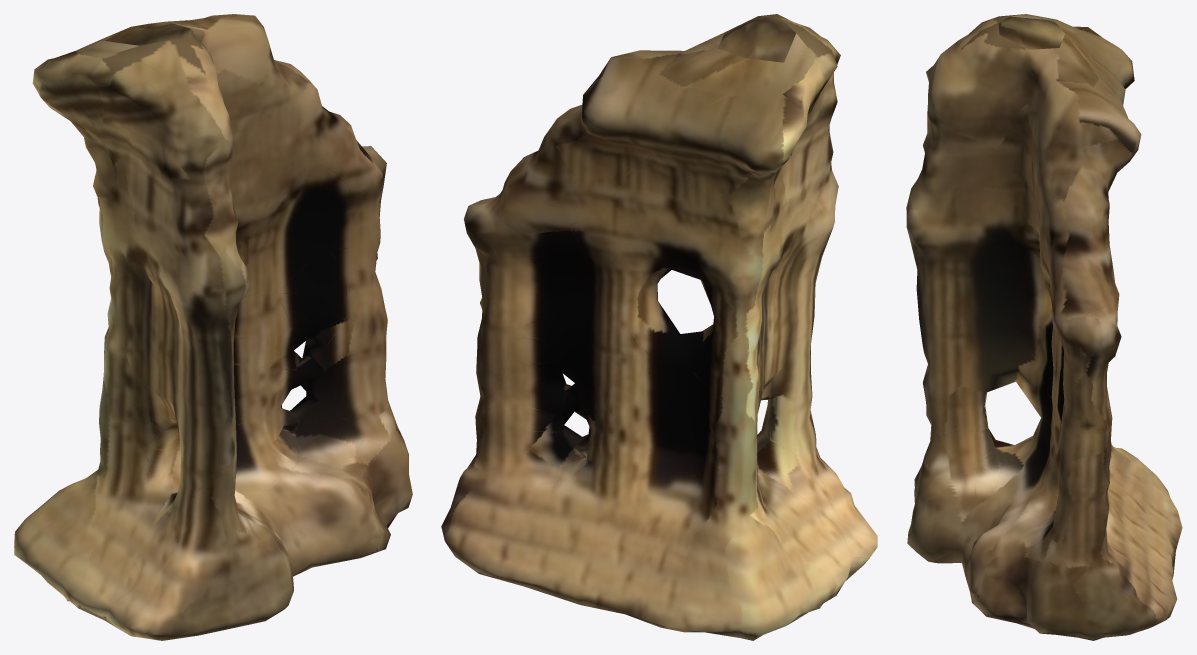
The model's file is temple_scan.obj.
The picture shows the model from 3 angles, left to right: view 1: azimuth 30°, elevation 25°; view 2: azimuth 150°, elevation 25°; view 3: azimuth 270°, elevation 25°; orthographic projection. The views are drawn at different scales.
Parts seen in each view (by area): view 1: submesh; view 2: submesh; view 3: submesh.
Boxes of the visible parts, x1=… form: submesh: x1=14, y1=14, x2=412, y2=640; submesh: x1=441, y1=14, x2=877, y2=640; submesh: x1=906, y1=14, x2=1182, y2=640.
Size of the model in its own units: 0.2074 by 0.3188 by 0.1551.
1 material, 1 textured.
